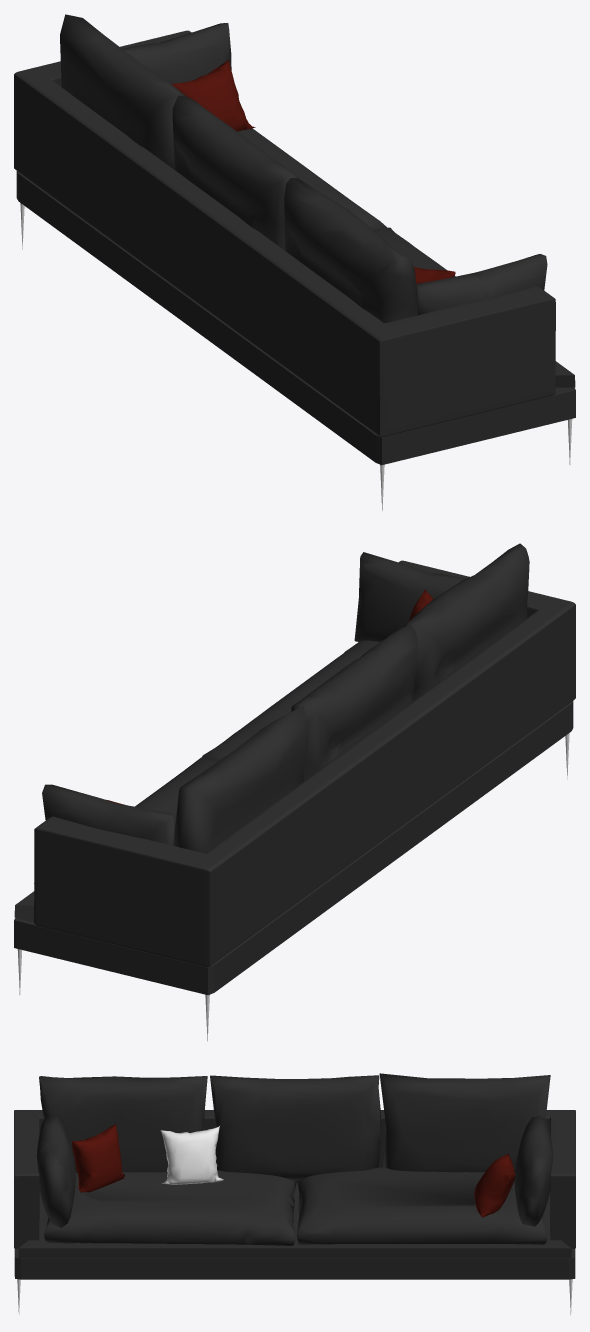
The model's file is couch.fbx.
3 renders of one model, top to bottom at view 1: azimuth 30°, elevation 25°; view 2: azimuth 150°, elevation 25°; view 3: azimuth 270°, elevation 25°, orthographic. The views are drawn at different scales.
Visible parts, largest first — view 1: Cube.001, Cube, Cube.005, Cube.004, Cube.003, Cube.009, Plane.002, Cube.006, Cube.007; view 2: Cube.001, Cube, Cube.003, Cube.005, Cube.004, Cube.009, Cube.007, Cube.006; view 3: Cube.004, Cube.006, Cube.007, Cube.003, Cube, Cube.005, Cube.002, Cube.001, Cube.009, Plane.001, Plane, Plane.002.
Boxes of the visible parts, <box> form: Cube.001: <box>14,30,555,436</box>; Cube: <box>16,171,575,464</box>; Cube.005: <box>284,178,417,323</box>; Cube.004: <box>172,95,298,250</box>; Cube.003: <box>60,14,185,169</box>; Cube.009: <box>123,23,547,315</box>; Plane.002: <box>171,60,255,131</box>; Cube.006: <box>238,128,386,229</box>; Cube.007: <box>374,227,455,276</box>; Cube.001: <box>34,560,575,966</box>; Cube: <box>14,701,573,995</box>; Cube.003: <box>173,705,306,853</box>; Cube.005: <box>403,543,529,700</box>; Cube.004: <box>291,624,417,781</box>; Cube.009: <box>42,552,465,845</box>; Cube.007: <box>201,640,379,760</box>; Cube.006: <box>34,757,218,883</box>; Cube.004: <box>210,1075,381,1180</box>; Cube.006: <box>296,1167,547,1244</box>; Cube.007: <box>44,1170,296,1245</box>; Cube.003: <box>379,1073,550,1172</box>; Cube: <box>14,1191,575,1279</box>; Cube.005: <box>39,1076,207,1172</box>; Cube.002: <box>18,1183,571,1257</box>; Cube.001: <box>14,1110,575,1248</box>; Cube.009: <box>36,1115,553,1227</box>; Plane.001: <box>160,1126,223,1184</box>; Plane: <box>72,1124,124,1192</box>; Plane.002: <box>474,1153,515,1217</box>.
Bounding box in the file's own units: 125 × 144 × 397.
